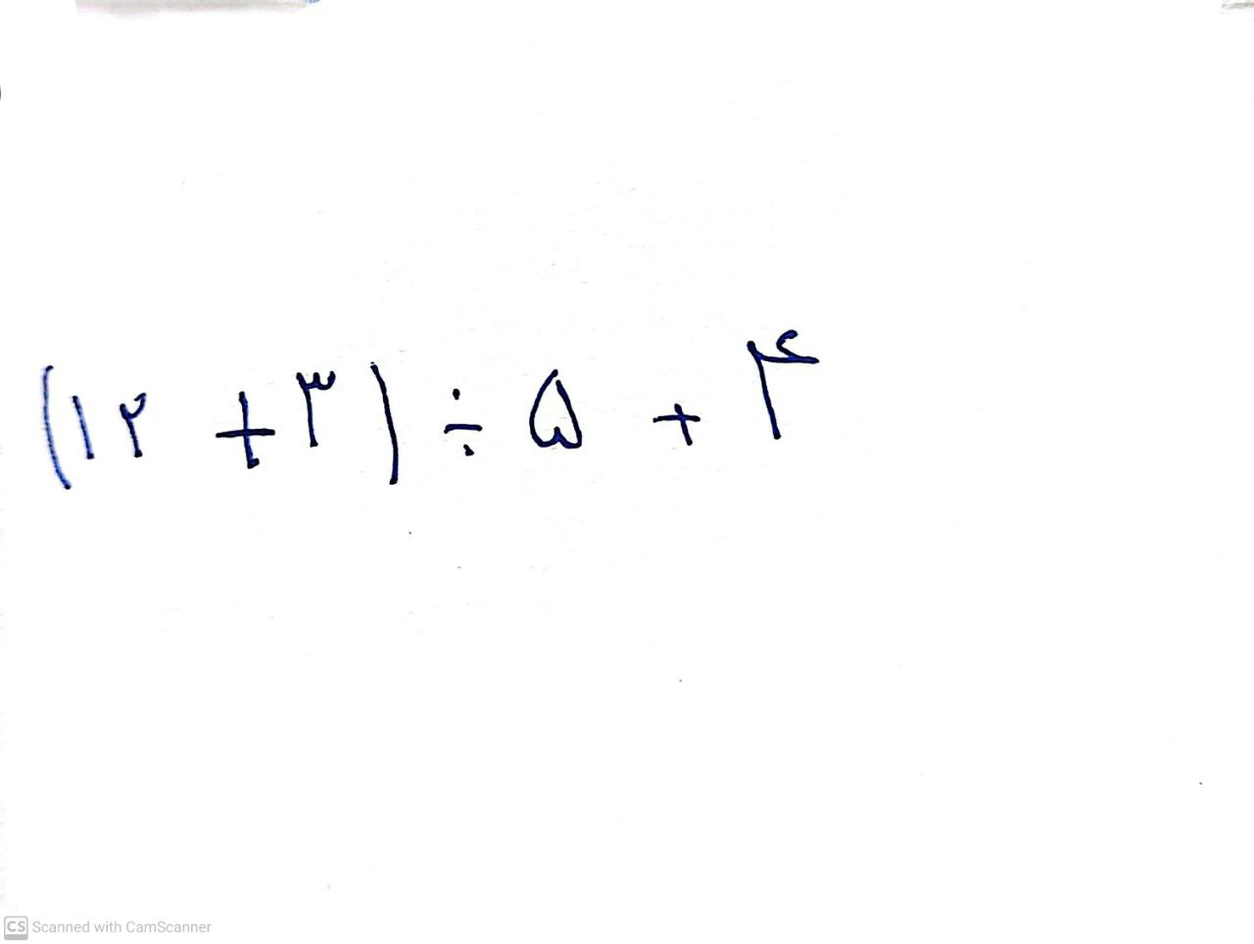character: (746, 329, 817, 441), (217, 392, 275, 468), (528, 369, 582, 448), (367, 362, 402, 483), (41, 362, 73, 491), (296, 372, 336, 445), (442, 389, 481, 455), (652, 403, 701, 443), (119, 395, 146, 456), (69, 395, 93, 461)
